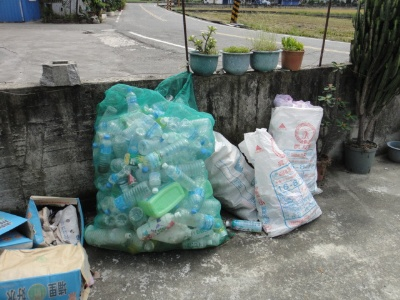bottle: (224, 217, 262, 236)
plastic_bag: (84, 71, 230, 254), (236, 127, 323, 237), (268, 100, 325, 197)
